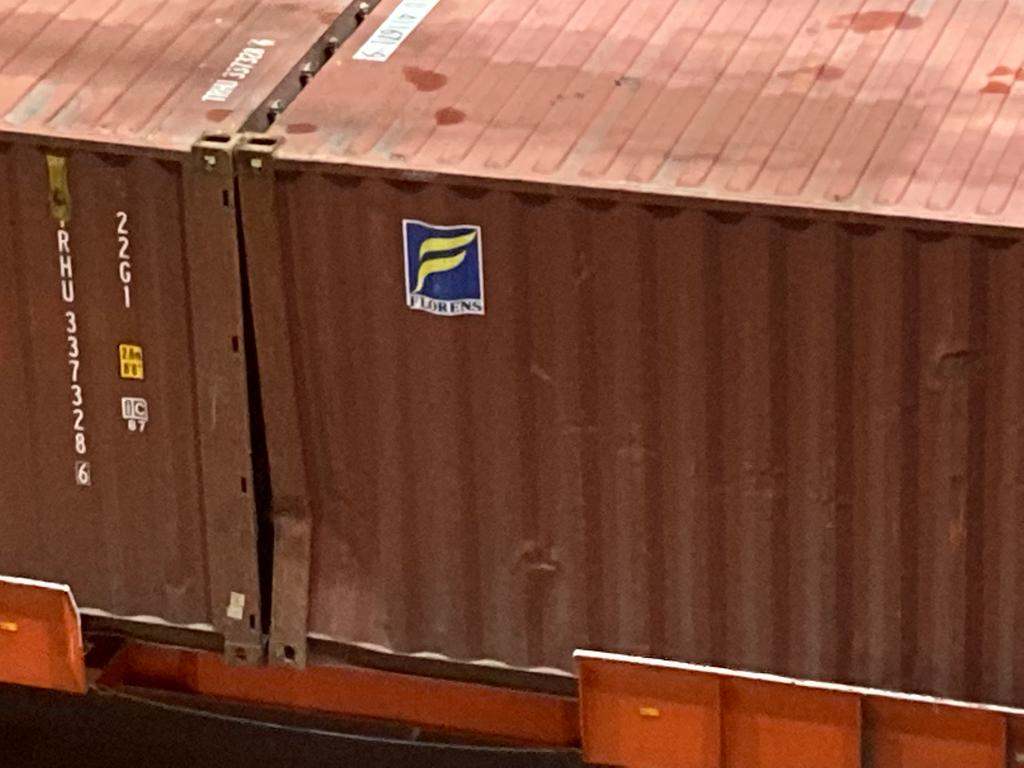dented: (258, 459, 371, 602), (919, 338, 997, 390)
